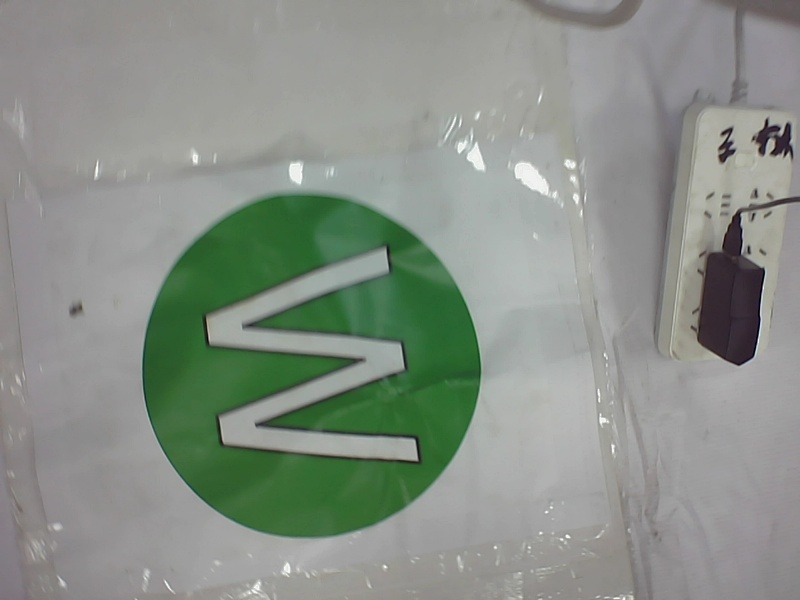areaB: (129, 184, 500, 544)
